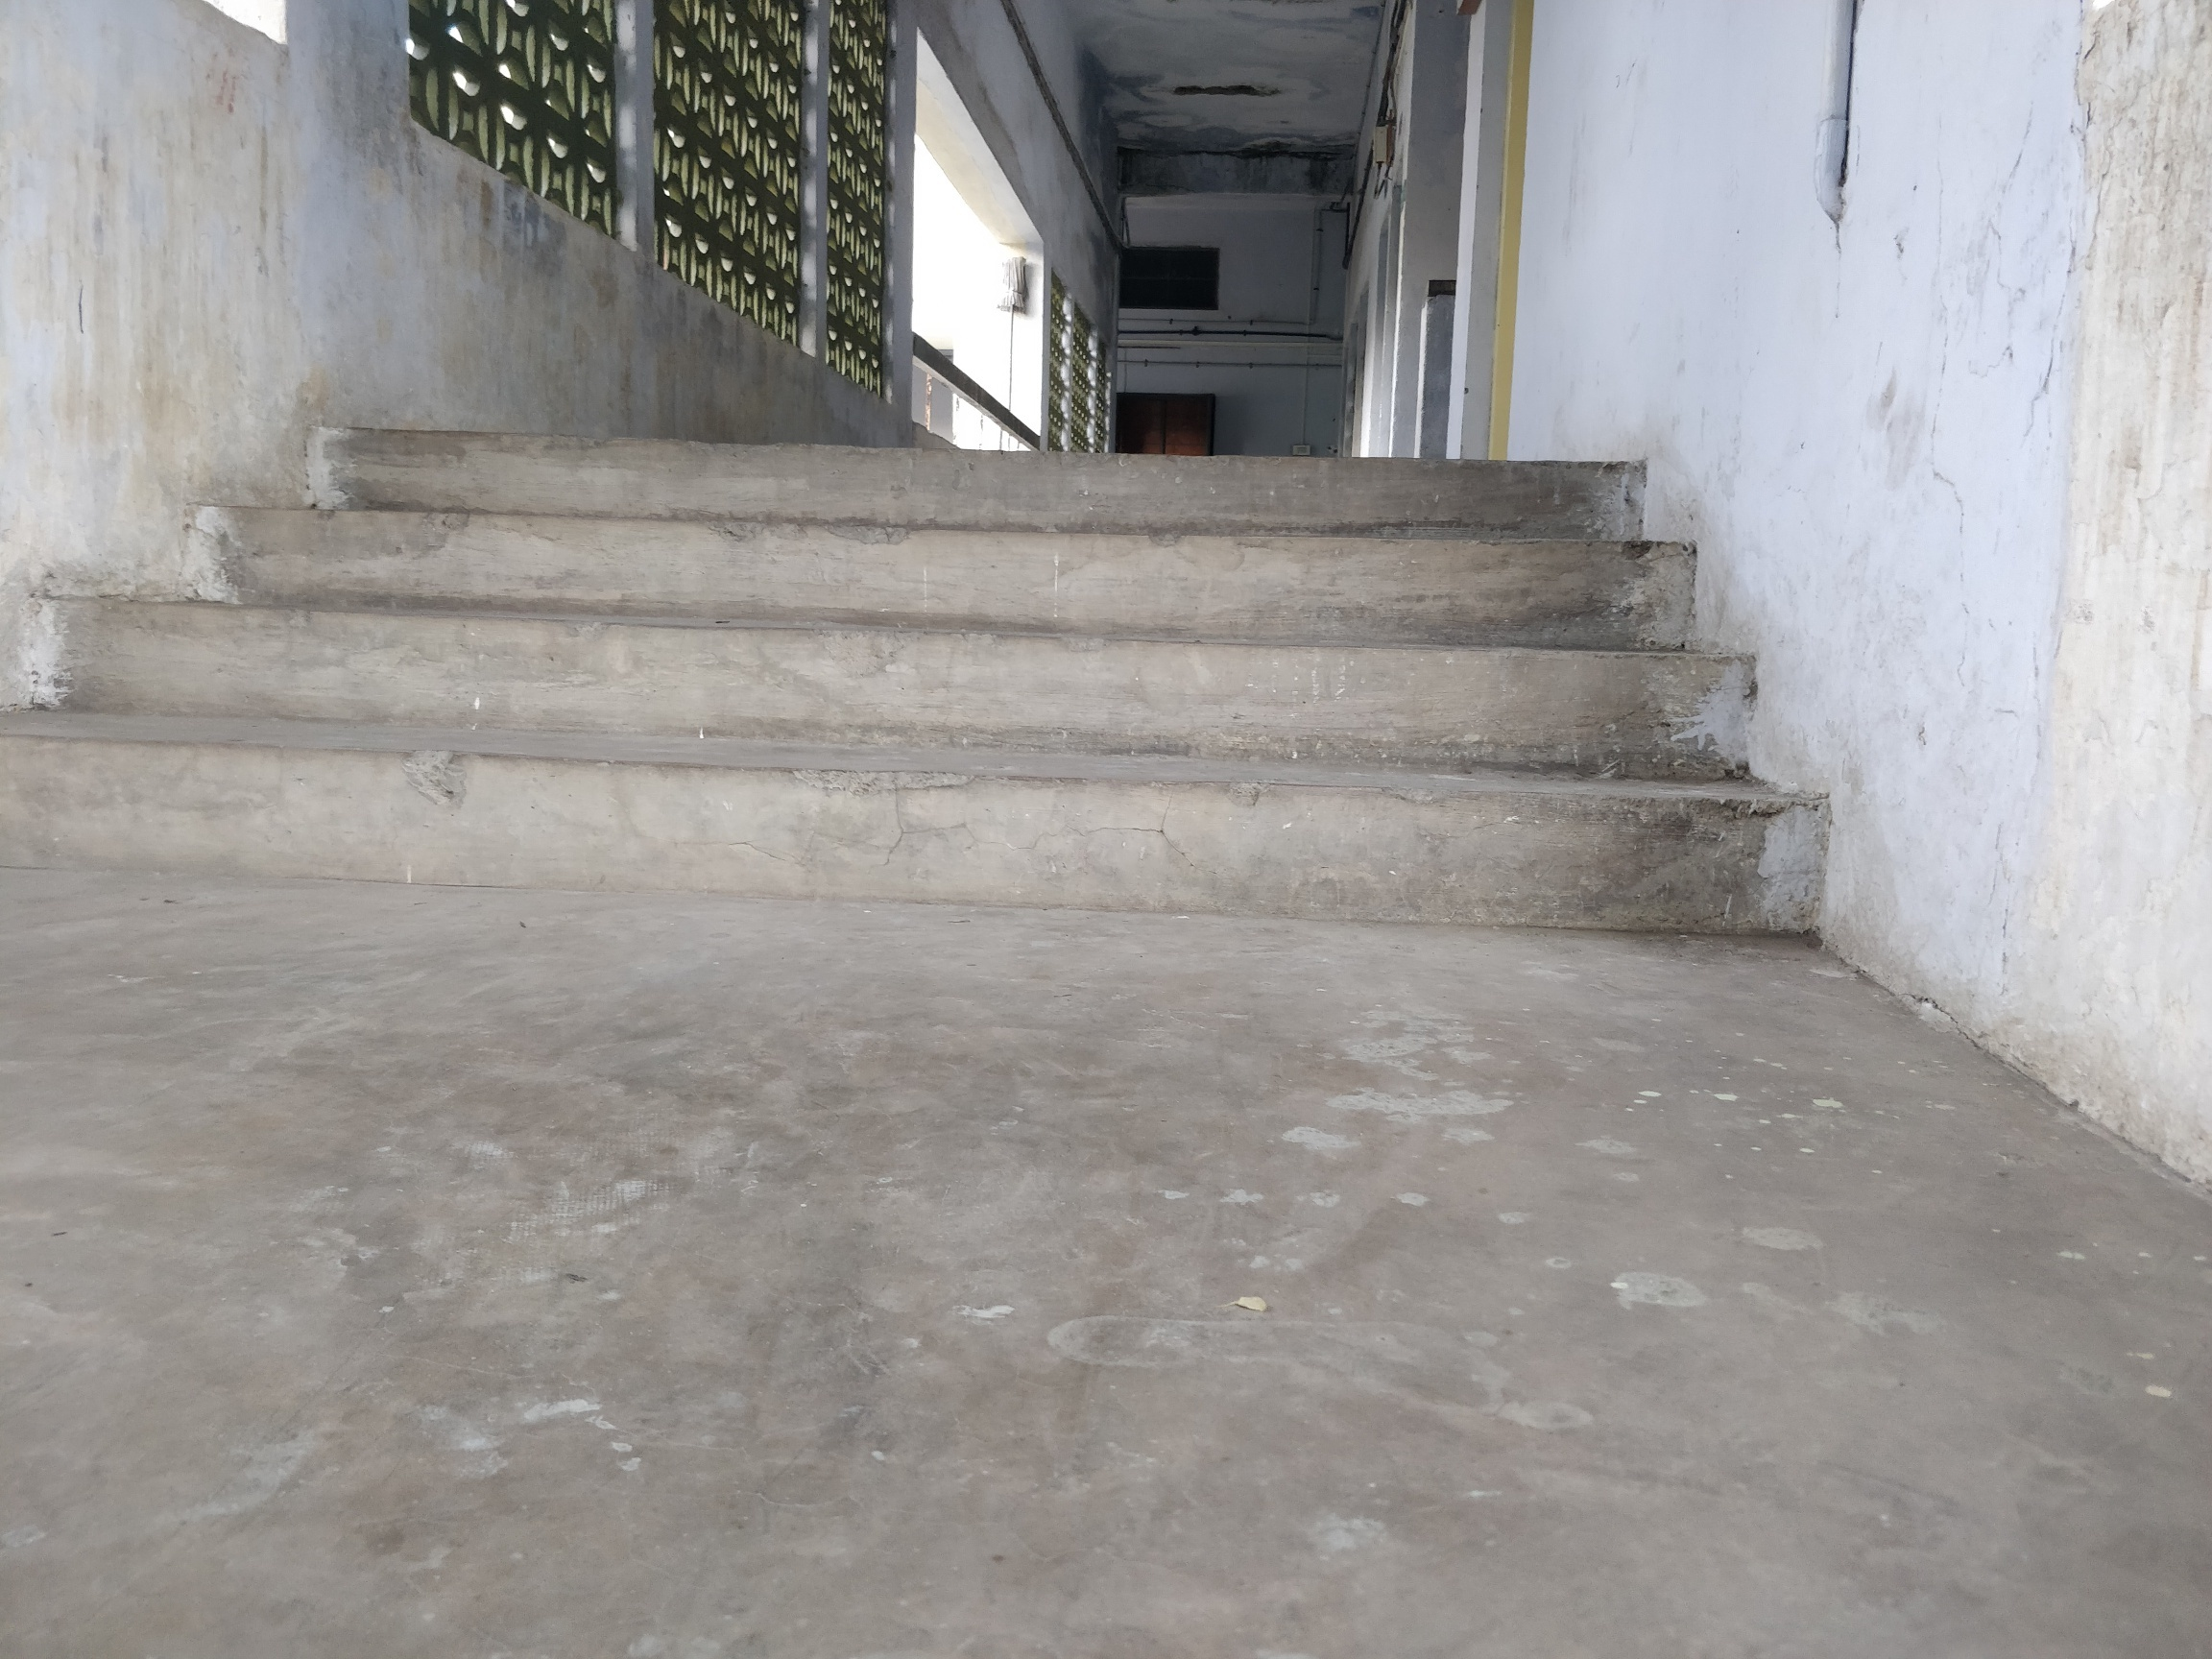stairs_up: (24, 416, 1822, 953)
